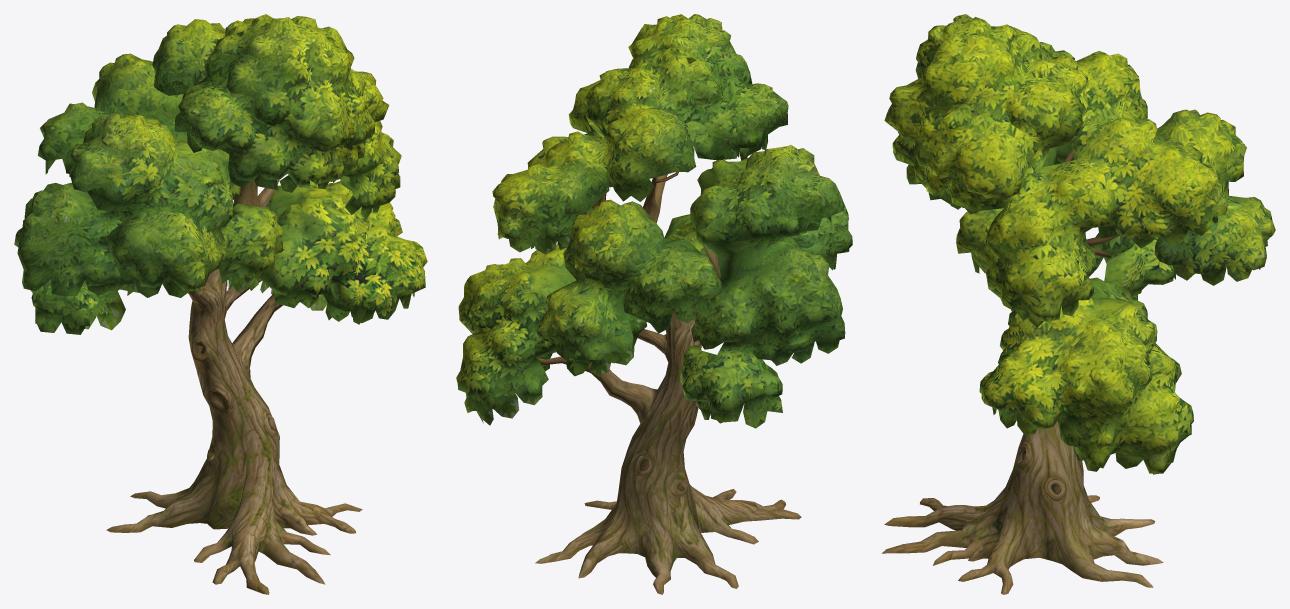
The model's file is Arbolito_2.glb.
3 views of the same model, side by side, from view 1: azimuth 30°, elevation 25°; view 2: azimuth 150°, elevation 25°; view 3: azimuth 270°, elevation 25° (orthographic). The views are drawn at different scales.
Parts seen in each view (by area): view 1: tripo_node_714e768c-f10c-4388-baf7-5301a5ce8b55; view 2: tripo_node_714e768c-f10c-4388-baf7-5301a5ce8b55; view 3: tripo_node_714e768c-f10c-4388-baf7-5301a5ce8b55.
Part boxes in pixels (bbox=[...]): tripo_node_714e768c-f10c-4388-baf7-5301a5ce8b55: bbox=[14, 14, 427, 594]; tripo_node_714e768c-f10c-4388-baf7-5301a5ce8b55: bbox=[456, 14, 852, 594]; tripo_node_714e768c-f10c-4388-baf7-5301a5ce8b55: bbox=[882, 14, 1275, 594].
Size of the model in its own units: 0.7583 by 0.9995 by 0.6665.
1 material, 1 textured.
